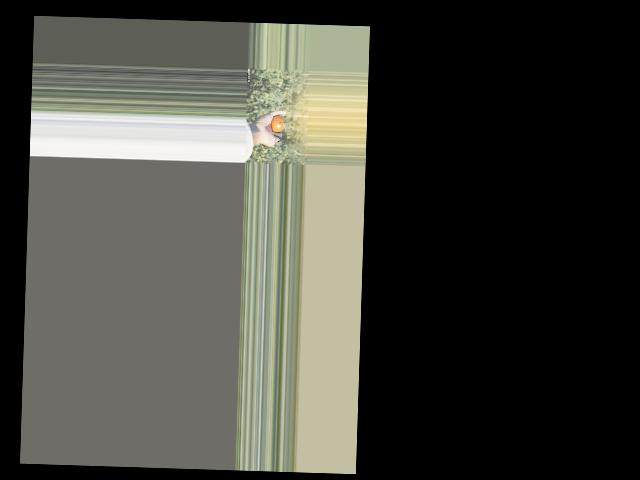tomato: (270, 114, 286, 131)
